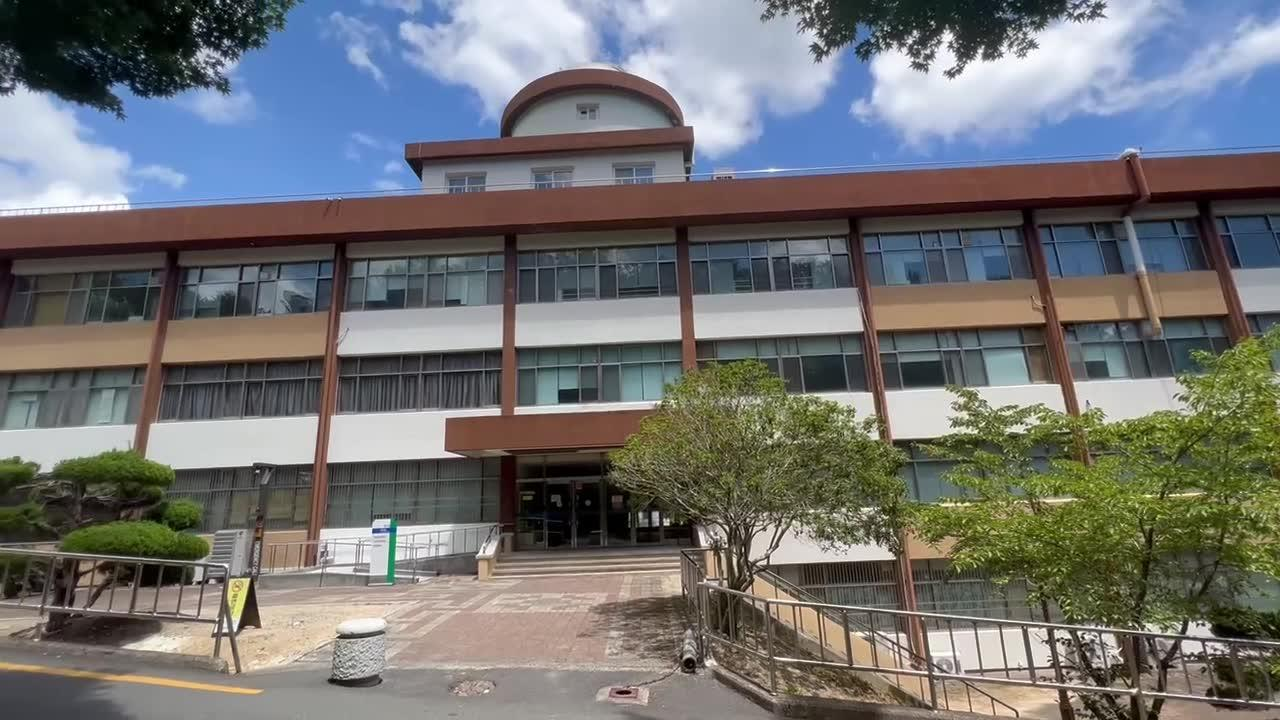building: (8, 90, 1273, 431)
